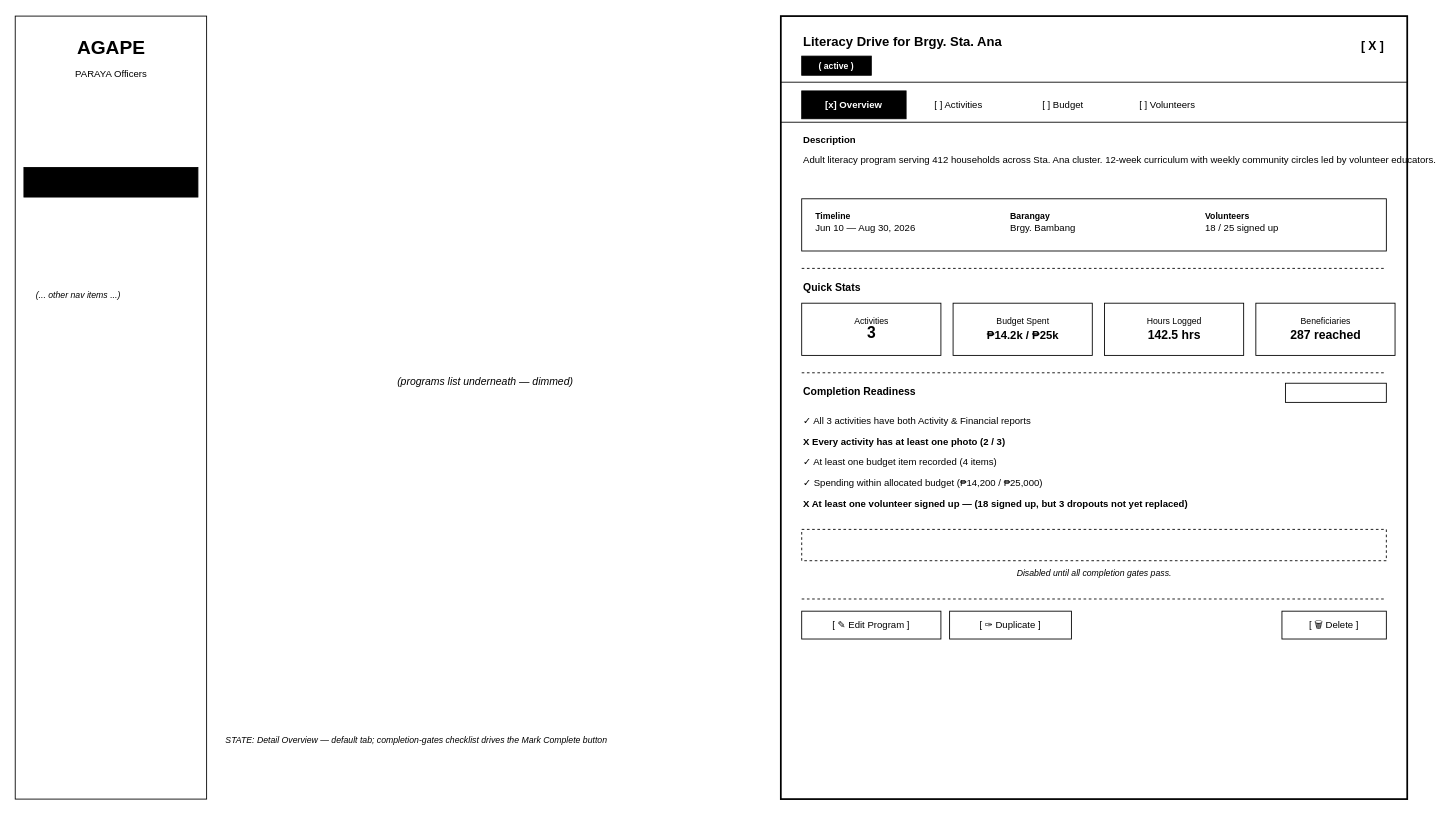
Some shapes in this 1452 by 814 pixel diagram are drawn without their labels. Each missing label, with the centre of its shape:
"3 of 5 gates passed" goes at pixel 1335 392.
"[ ➤ MARK PROGRAM COMPLETE ]" goes at pixel 1093 545.
"[x] Programs" goes at pixel 110 182.
